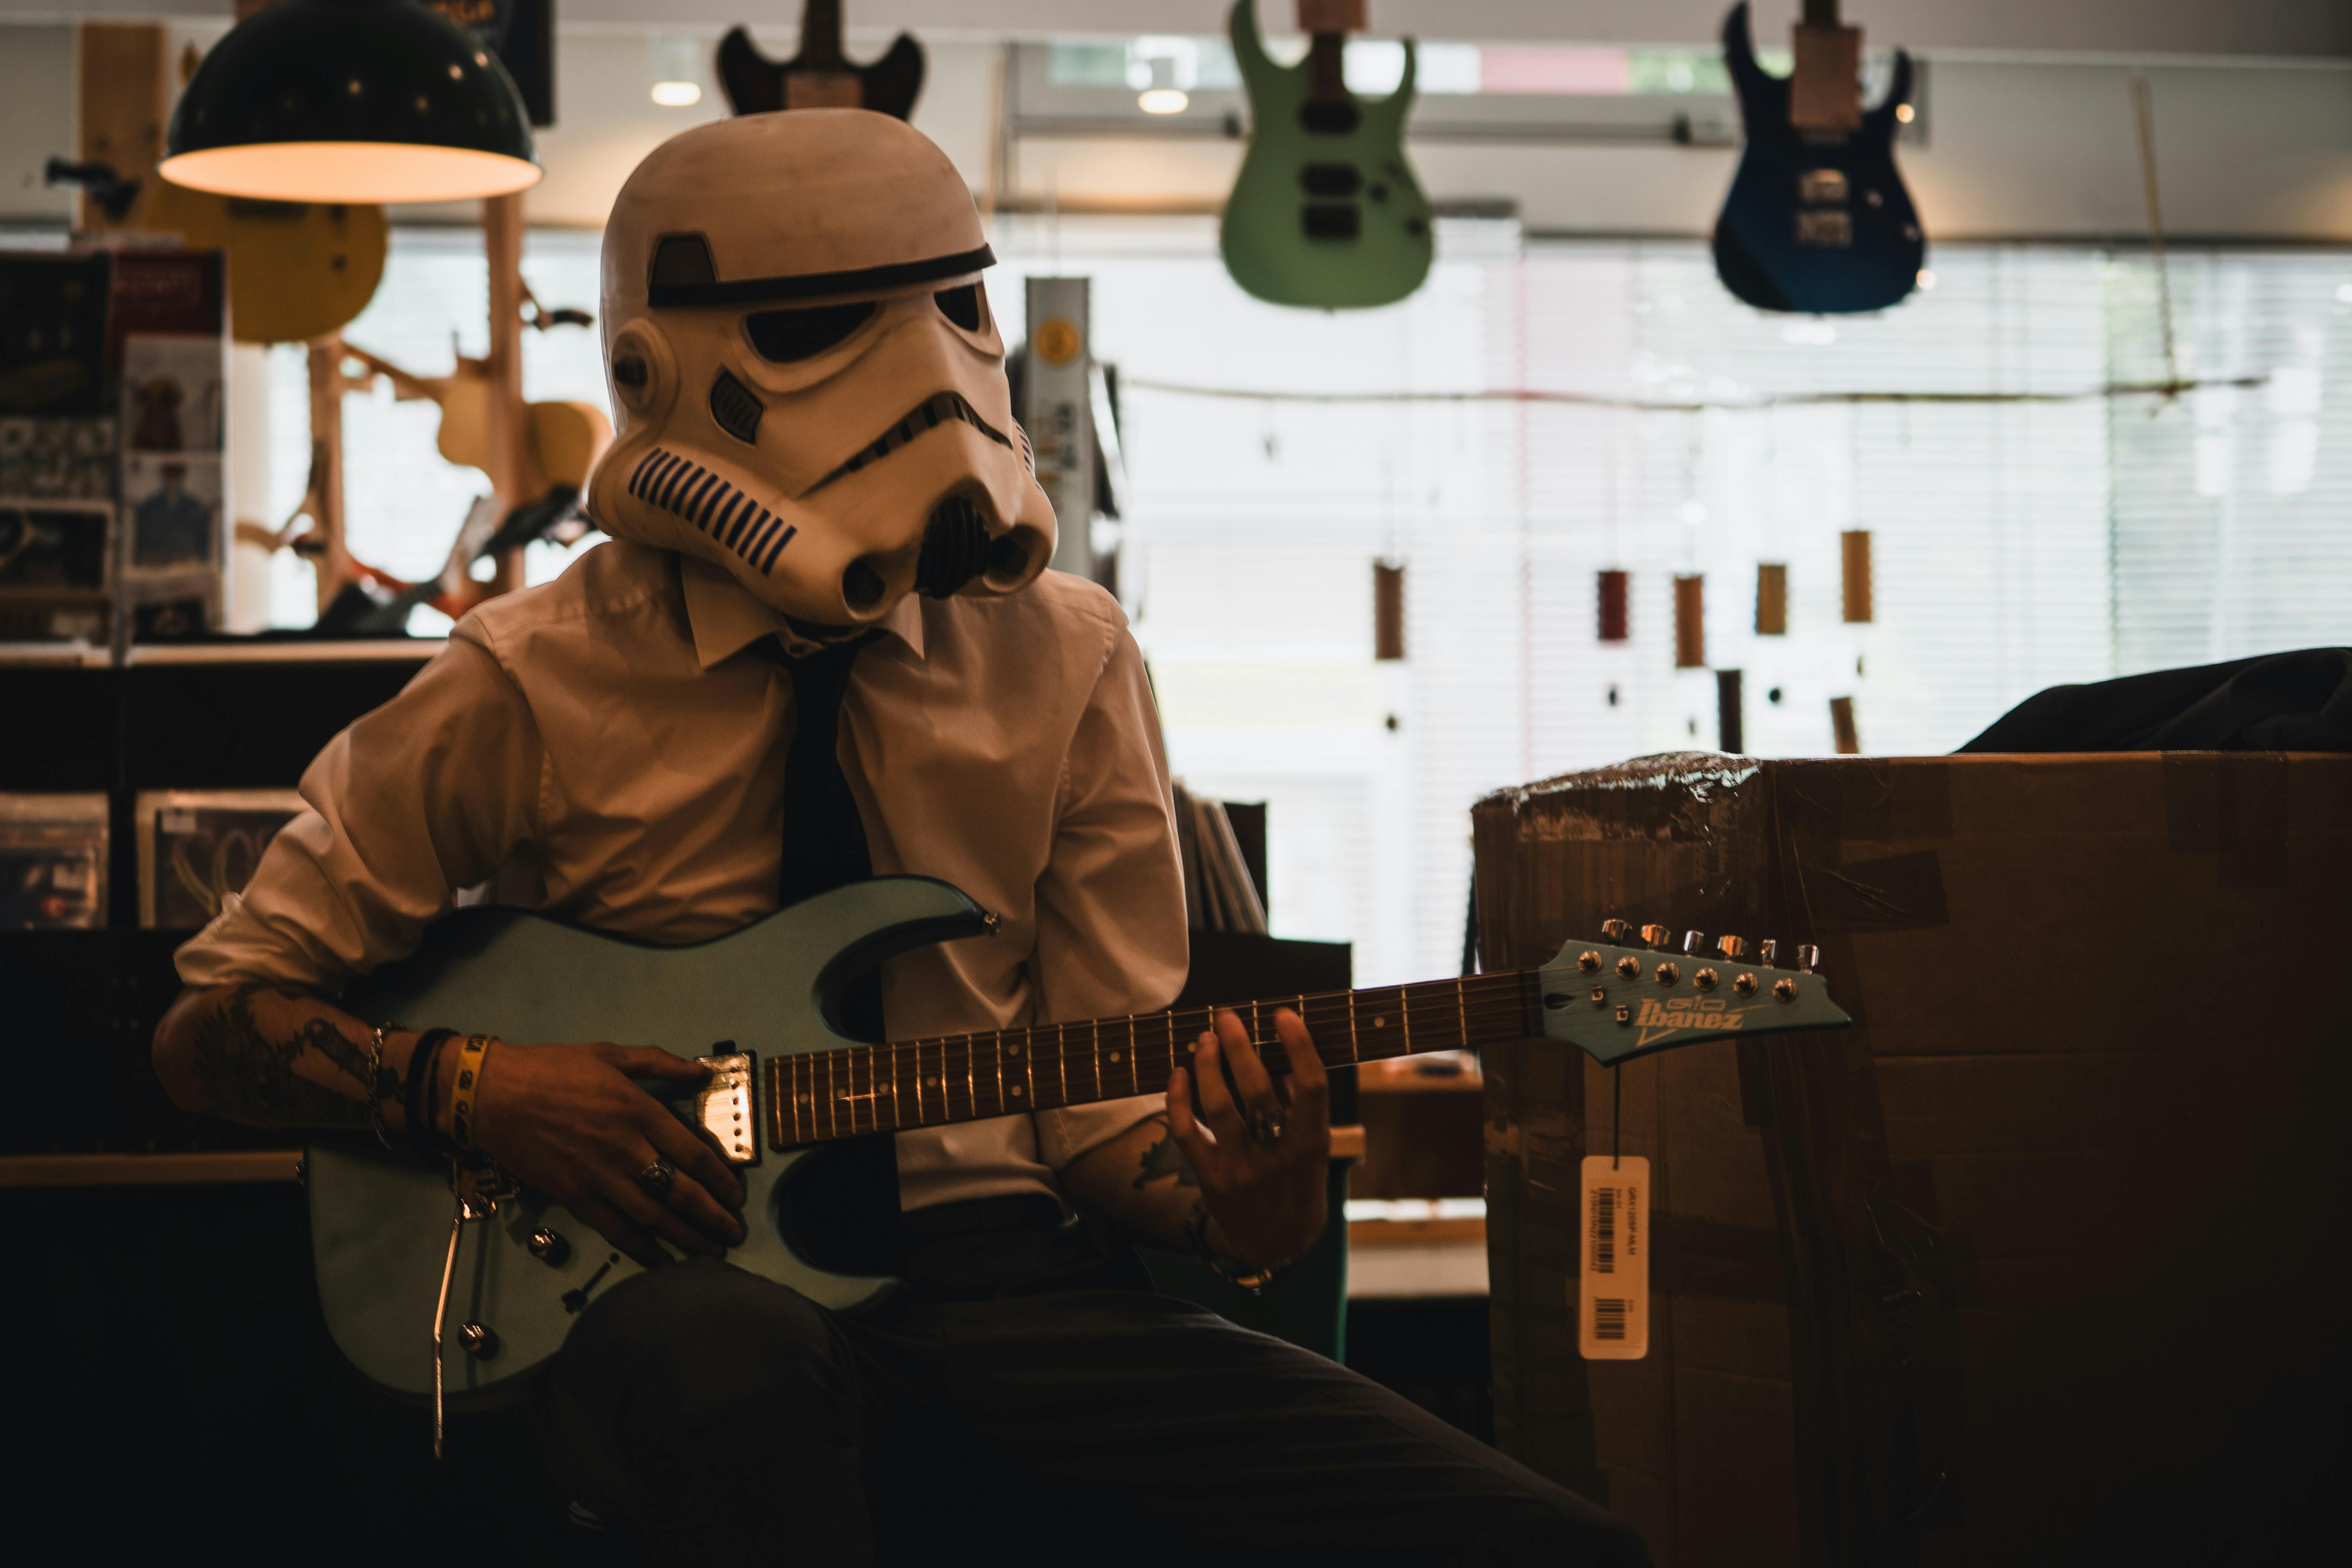capacete: (574, 102, 1061, 635)
